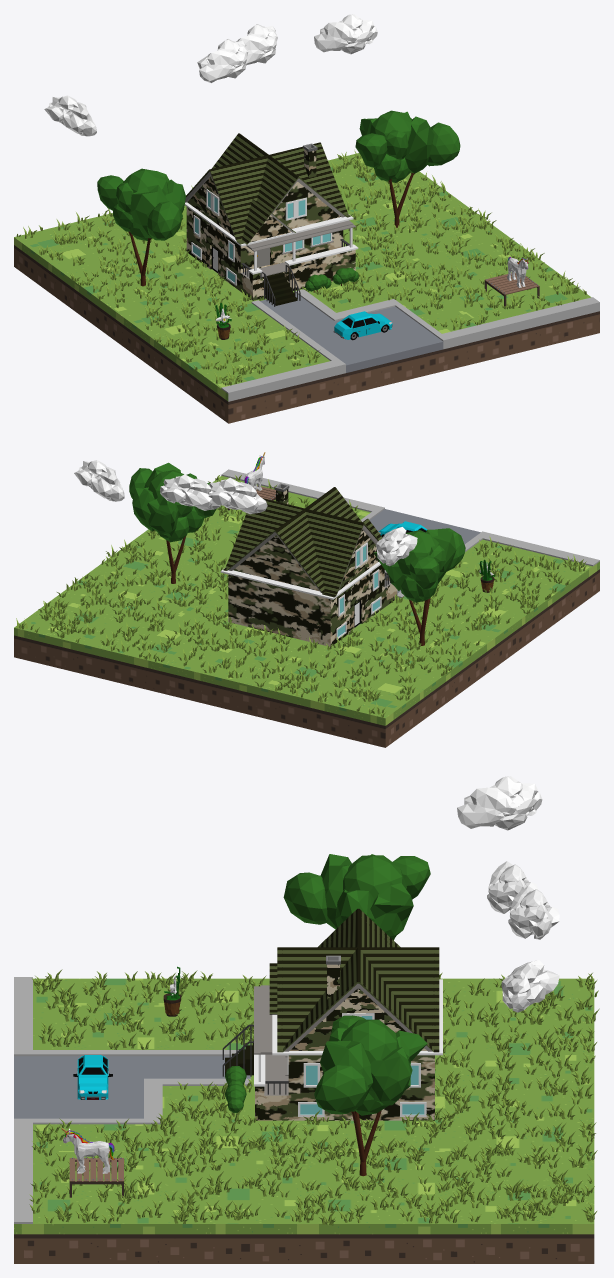
3 renders of one model, top to bottom at view 1: azimuth 30°, elevation 25°; view 2: azimuth 150°, elevation 25°; view 3: azimuth 270°, elevation 25°, orthographic. The views are drawn at different scales.
Parts seen in each view (by area): view 1: Cube.006, Cube.001, Circle.012_Grass_0.192, Cube.007, tree, tree.001, VEHICLES_CAR, Cube.009; view 2: Cube.006, Cube.001, Circle.012_Grass_0.192, Cube.007, tree.001, tree, ANIMAL_UNICORNIO; view 3: Cube.006, Circle.012_Grass_0.192, Cube.001, tree, Cube.007, tree.001, VEHICLES_CAR, Cube.009, ANIMAL_UNICORNIO.
Part boxes in pixels (box(x1,y1,x2,y2)): Cube.006: box(14, 153, 599, 423); Cube.001: box(184, 133, 358, 306); Circle.012_Grass_0.192: box(16, 150, 586, 385); Cube.007: box(44, 14, 377, 136); tree: box(355, 110, 460, 227); tree.001: box(97, 168, 185, 286); VEHICLES_CAR: box(333, 311, 392, 340); Cube.009: box(484, 272, 539, 306); Cube.006: box(14, 469, 599, 747); Cube.001: box(220, 483, 397, 646); Circle.012_Grass_0.192: box(16, 475, 586, 717); Cube.007: box(74, 460, 417, 566); tree.001: box(374, 528, 465, 645); tree: box(129, 462, 216, 583); ANIMAL_UNICORNIO: box(244, 452, 265, 490); Cube.006: box(14, 977, 594, 1263); Circle.012_Grass_0.192: box(29, 969, 599, 1225); Cube.001: box(222, 908, 442, 1120); tree: box(314, 1015, 427, 1176); Cube.007: box(457, 776, 559, 1012); tree.001: box(283, 854, 430, 940); VEHICLES_CAR: box(73, 1055, 112, 1099); Cube.009: box(69, 1157, 123, 1197); ANIMAL_UNICORNIO: box(61, 1128, 114, 1173).
Bounding box in the file's own units: 4071 × 2179 × 4040.
Materials: 44 (5 with a texture image).
